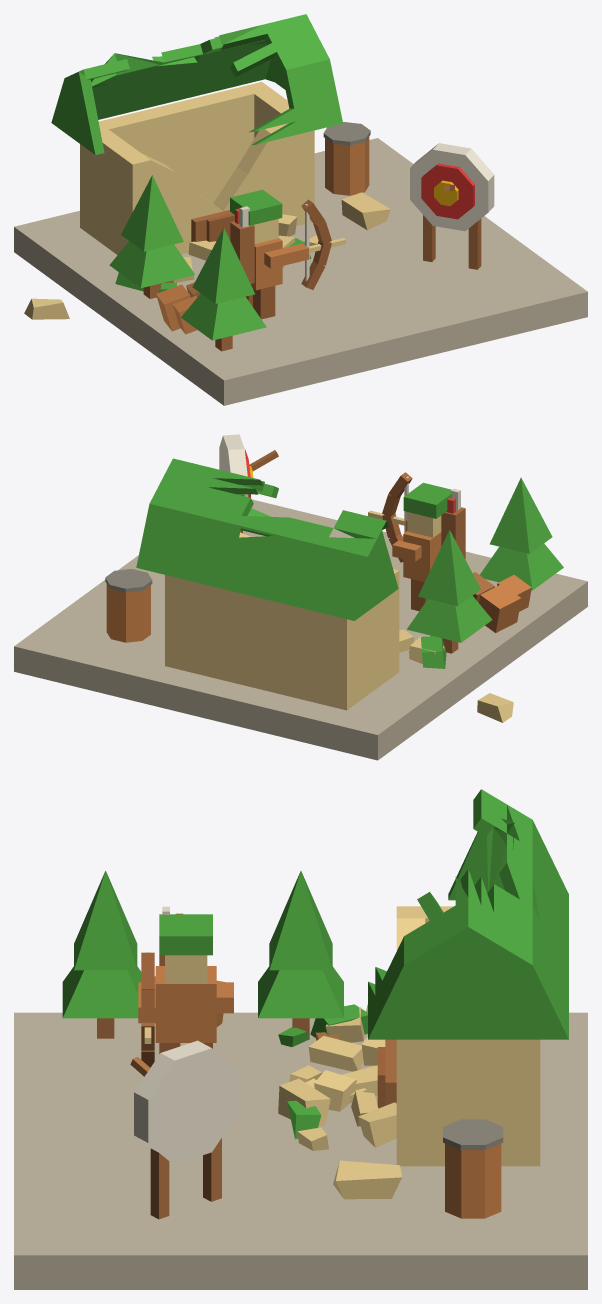
Rendered from archery_range_t1_v3_dmg1.glb.
3 views of the same model, one above another, from view 1: azimuth 30°, elevation 25°; view 2: azimuth 150°, elevation 25°; view 3: azimuth 270°, elevation 25° (orthographic). The views are drawn at different scales.
Visible parts, largest first — view 1: archery_range_t1_v3_dmg1; view 2: archery_range_t1_v3_dmg1; view 3: archery_range_t1_v3_dmg1.
Part boxes in pixels (<box>): archery_range_t1_v3_dmg1: <box>14,14,587,405</box>; archery_range_t1_v3_dmg1: <box>14,434,587,760</box>; archery_range_t1_v3_dmg1: <box>14,789,587,1289</box>.
Size of the model in its own units: 0.6958 by 0.33 by 0.6.
Materials: 1 (1 with a texture image).
